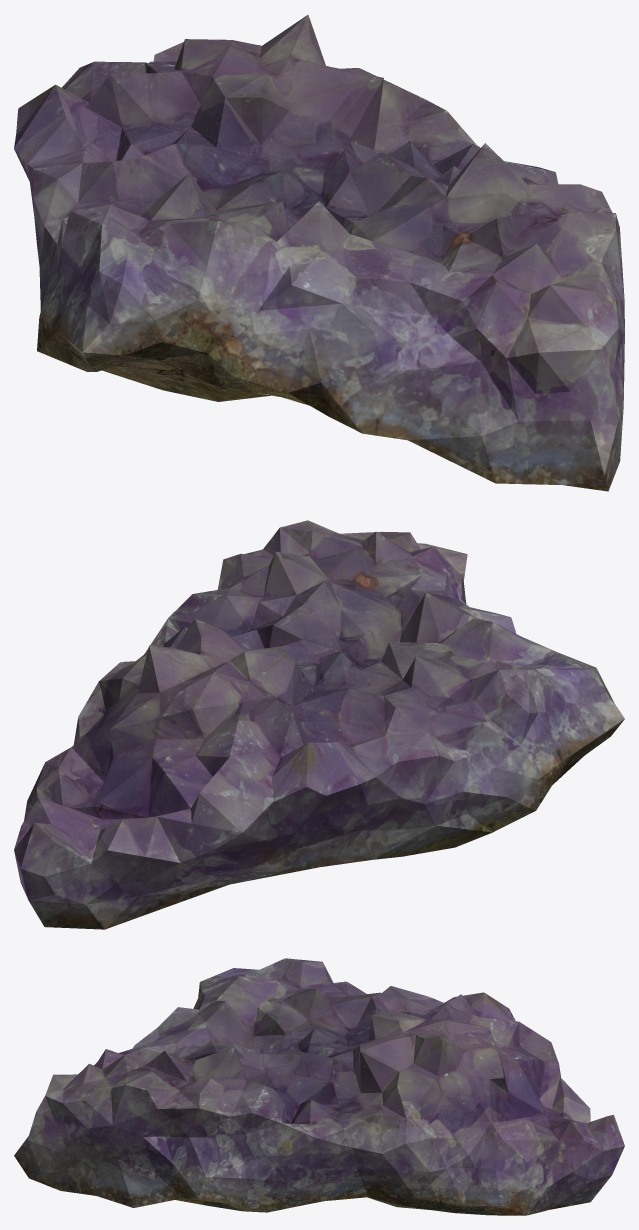
The model's file is amethyst_crystal.glb.
3 views of the same model, one above another, from view 1: azimuth 30°, elevation 25°; view 2: azimuth 150°, elevation 25°; view 3: azimuth 270°, elevation 25° (orthographic). The views are drawn at different scales.
Visible parts, largest first — view 1: amethyst_1k; view 2: amethyst_1k; view 3: amethyst_1k.
Boxes of the visible parts, left/top/right/bottom form: amethyst_1k: left=14, top=15, right=624, bottom=491; amethyst_1k: left=14, top=520, right=624, bottom=929; amethyst_1k: left=14, top=958, right=624, bottom=1215.
Size of the model in its own units: 0.0748 by 0.036 by 0.1205.
1 material, 1 textured.
